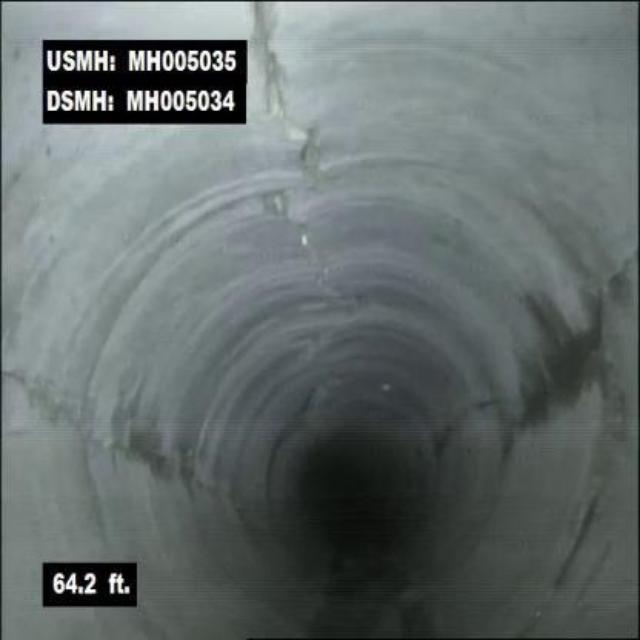Buckling: (251, 6, 332, 177), (258, 188, 317, 251)
Crack: (6, 365, 83, 429), (89, 426, 157, 465), (598, 251, 637, 318)
